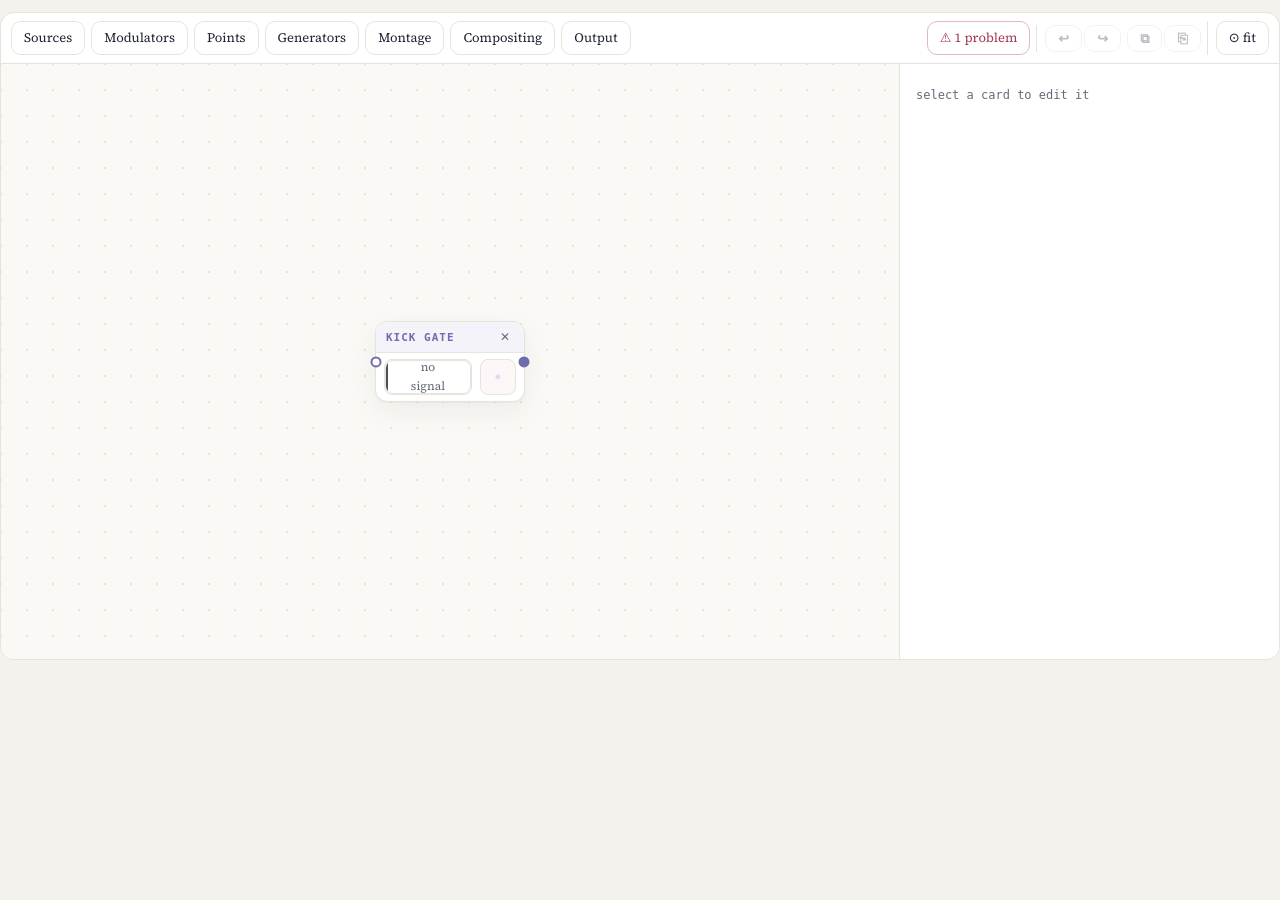
Test case: ⌘K in the animation editor › finds the cards already on the canvas
The image size is (1280, 900).
Press k
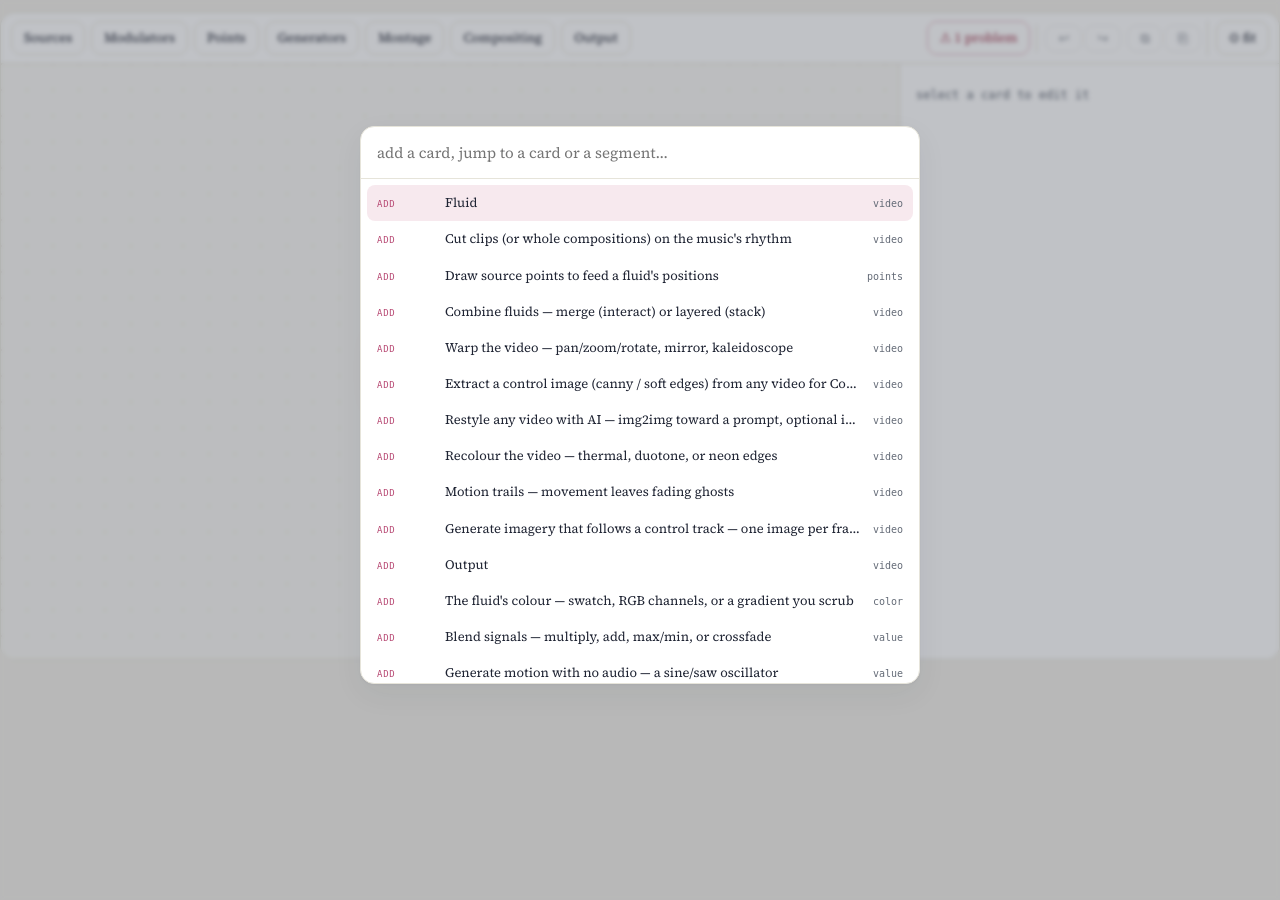
Type "kick" into the field with class "cmdk-input" at (640, 153), box [361,127,919,179]
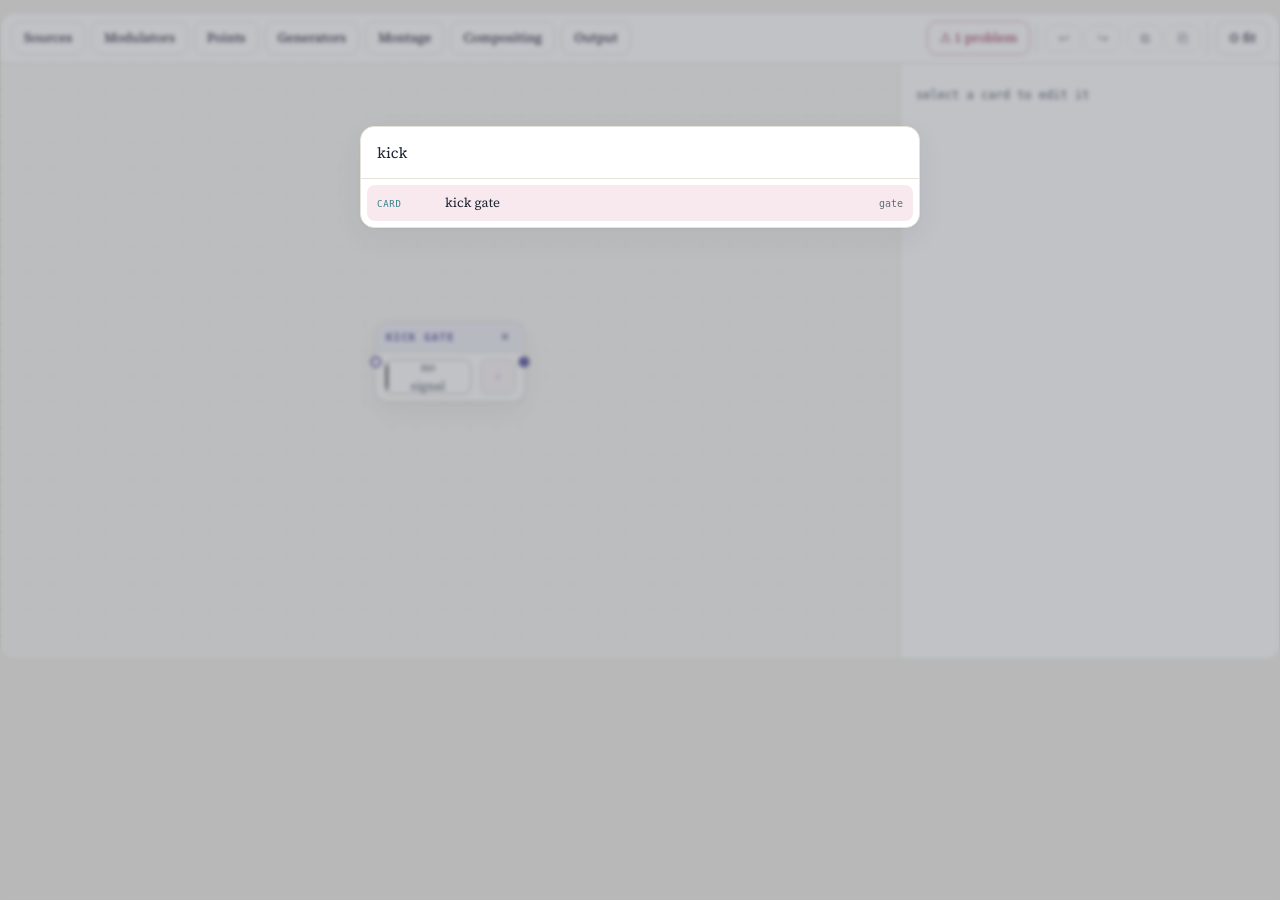
Expected: the button with class "cmdk-row" shows "kick gate", [367,185,913,221]
